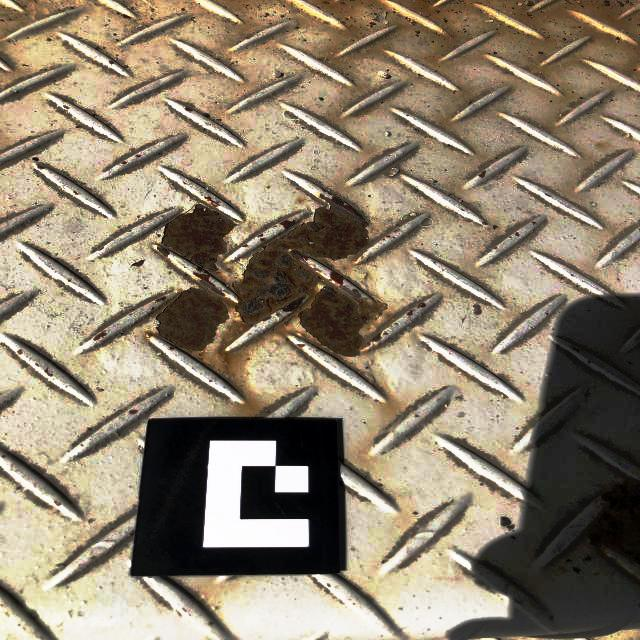Corrosion: (161, 200, 387, 357), (585, 478, 640, 567), (156, 289, 229, 352), (198, 280, 226, 296), (156, 246, 169, 257), (285, 220, 295, 229)
